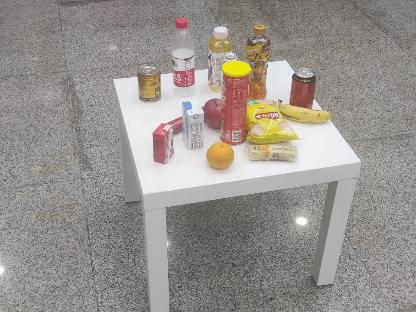Can: (136, 64, 164, 102), (290, 68, 315, 109)
Others: (221, 60, 250, 144), (180, 100, 206, 150), (150, 122, 176, 166)
Plastic Bottle: (164, 16, 200, 98)
